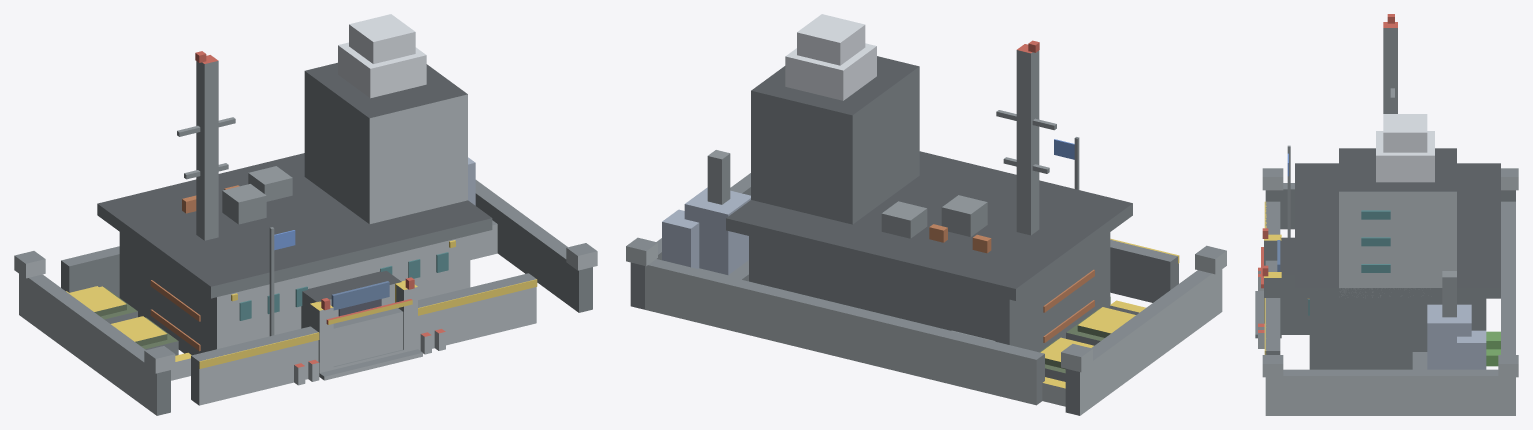
File: AbleArcher43.fbx
3 renders of one model, left to right at view 1: azimuth 30°, elevation 25°; view 2: azimuth 150°, elevation 25°; view 3: azimuth 270°, elevation 25°, orthographic. The views are drawn at different scales.
Parts seen in each view (by area): view 1: AbleArcher43; view 2: AbleArcher43; view 3: AbleArcher43.
Part boxes in pixels (left/top/right/bottom): AbleArcher43: left=14, top=14, right=597, bottom=415; AbleArcher43: left=626, top=14, right=1226, bottom=415; AbleArcher43: left=1255, top=14, right=1518, bottom=415.
Bounding box in the file's own units: 3140 × 1930 × 1790.
